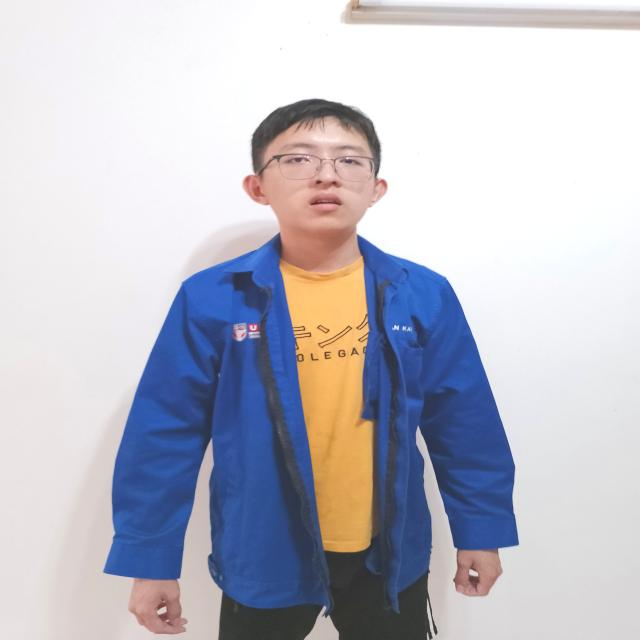person_with_labcoat: (105, 99, 518, 640)
